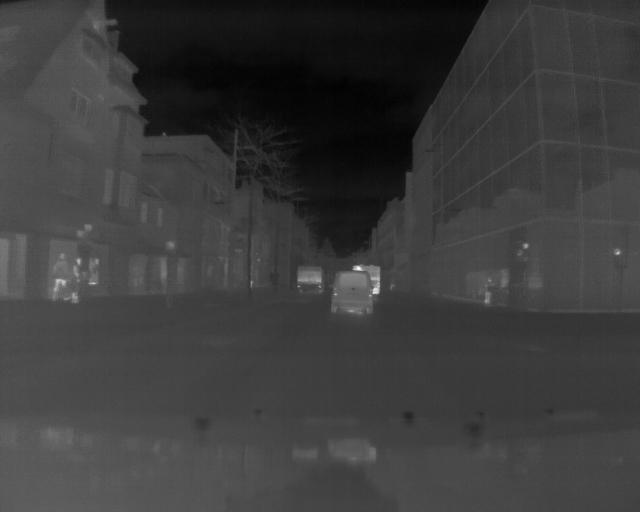car: (332, 271, 375, 317), (294, 263, 327, 297)
person: (51, 250, 71, 305), (71, 253, 87, 309)
